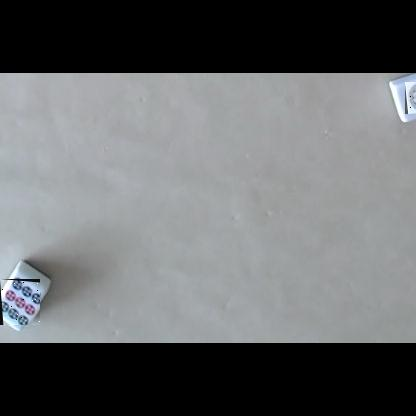1p: (405, 82, 416, 114)
9p: (0, 279, 40, 325)
